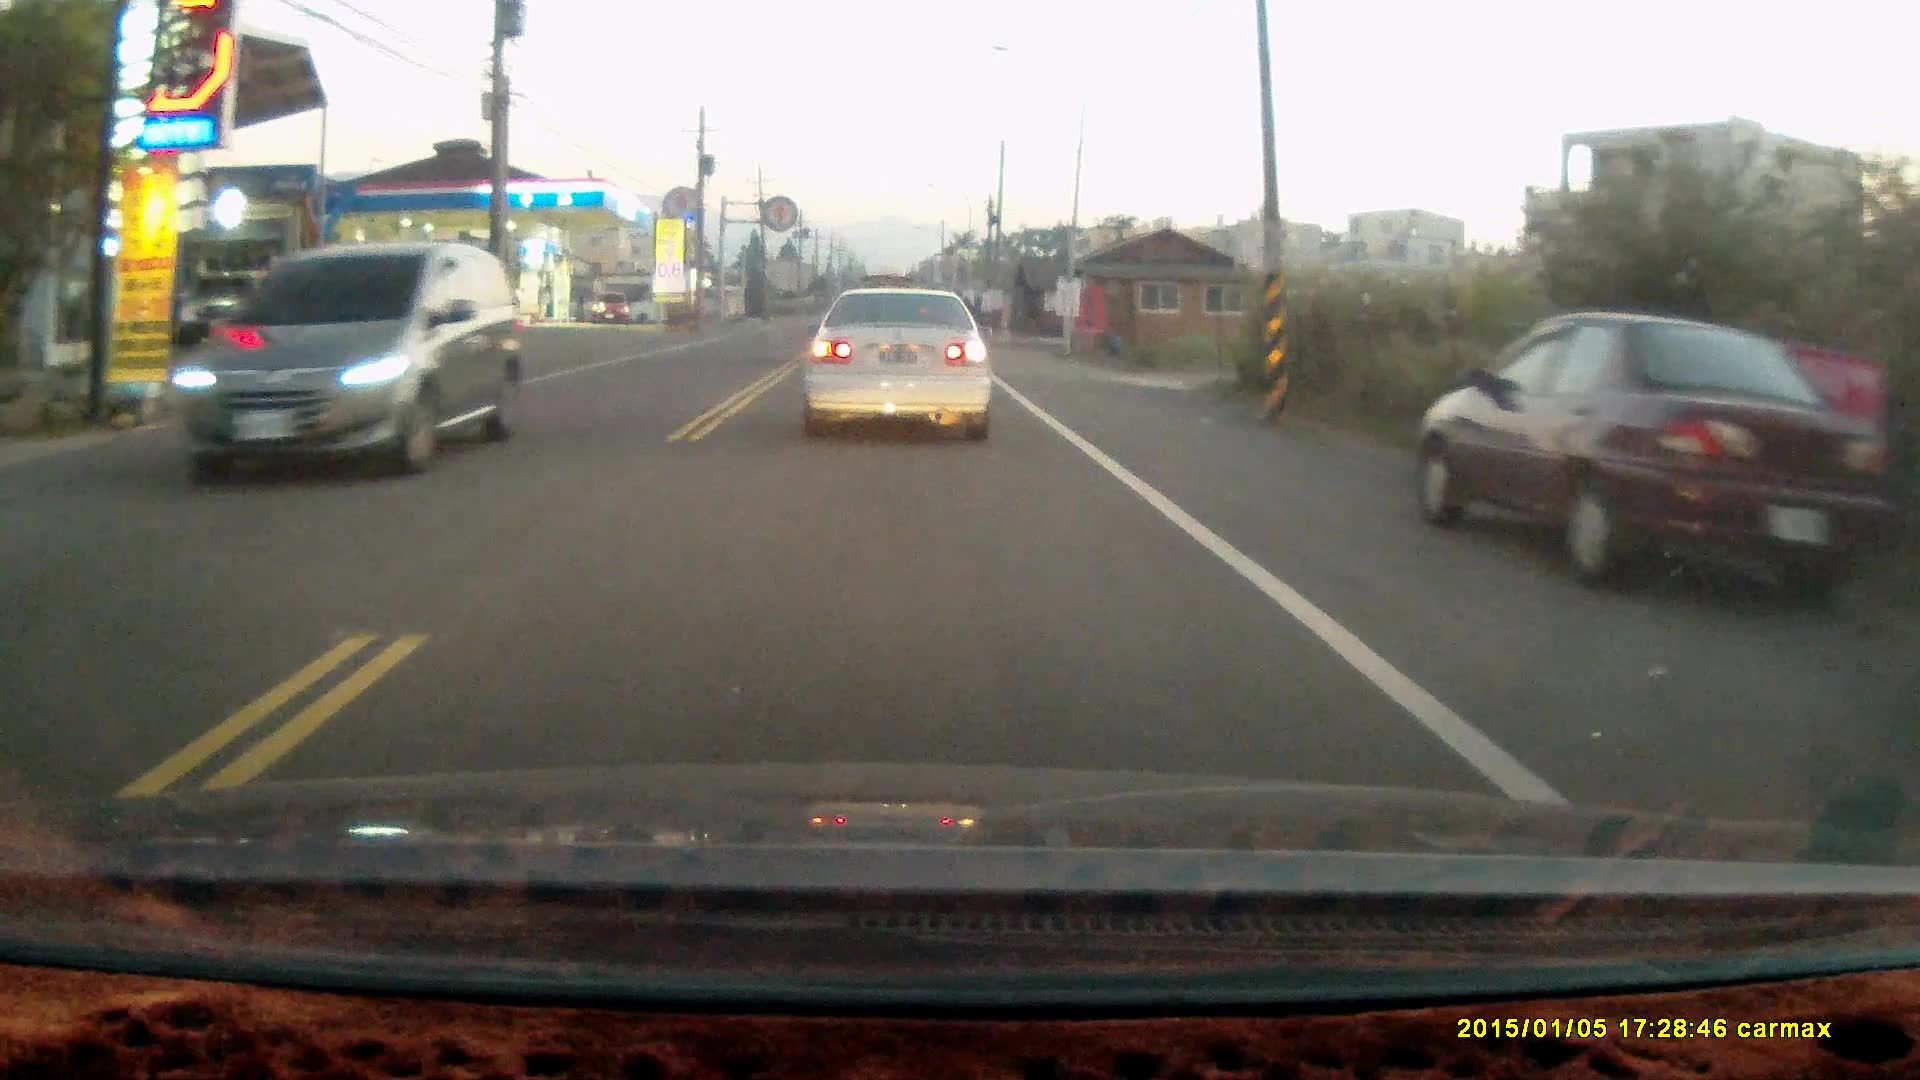vehicle: (1416, 313, 1908, 603), (166, 247, 531, 480), (796, 284, 996, 444), (592, 291, 630, 326)
